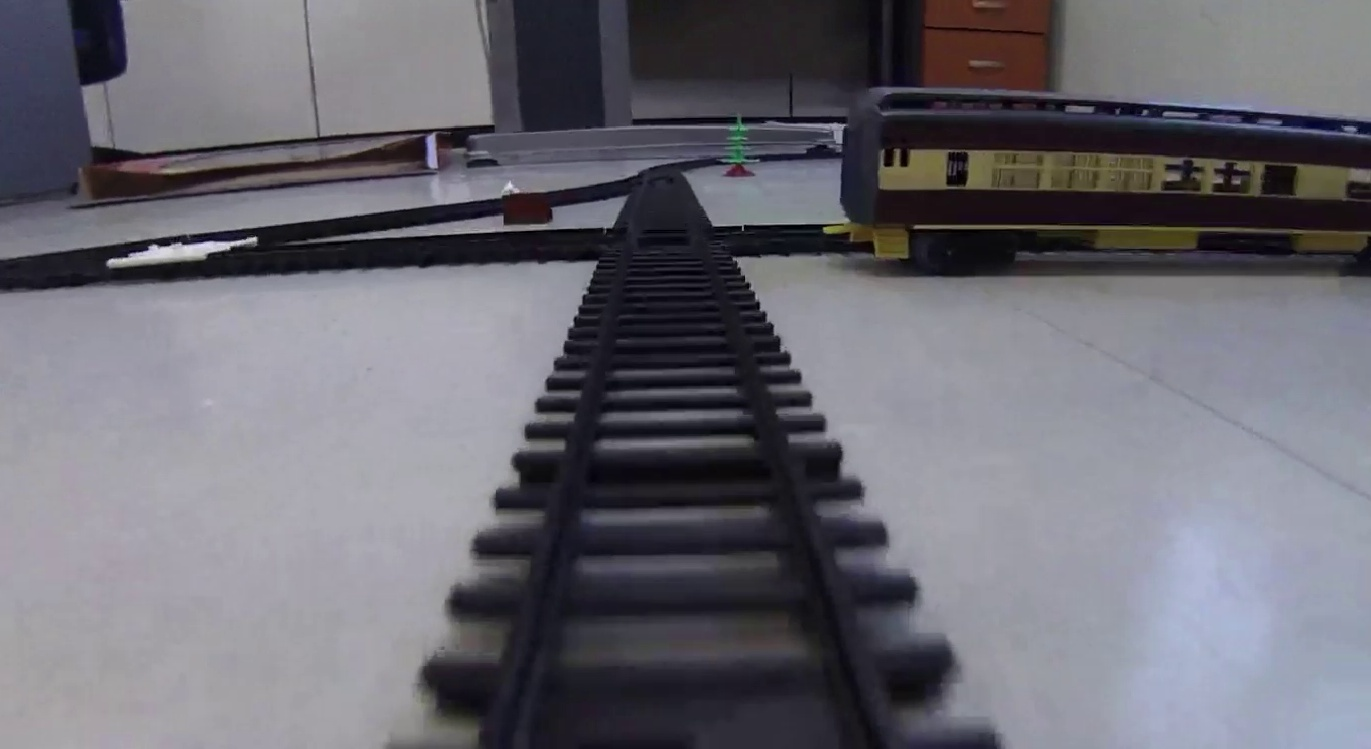box: (501, 195, 552, 224)
tree: (715, 116, 763, 178)
